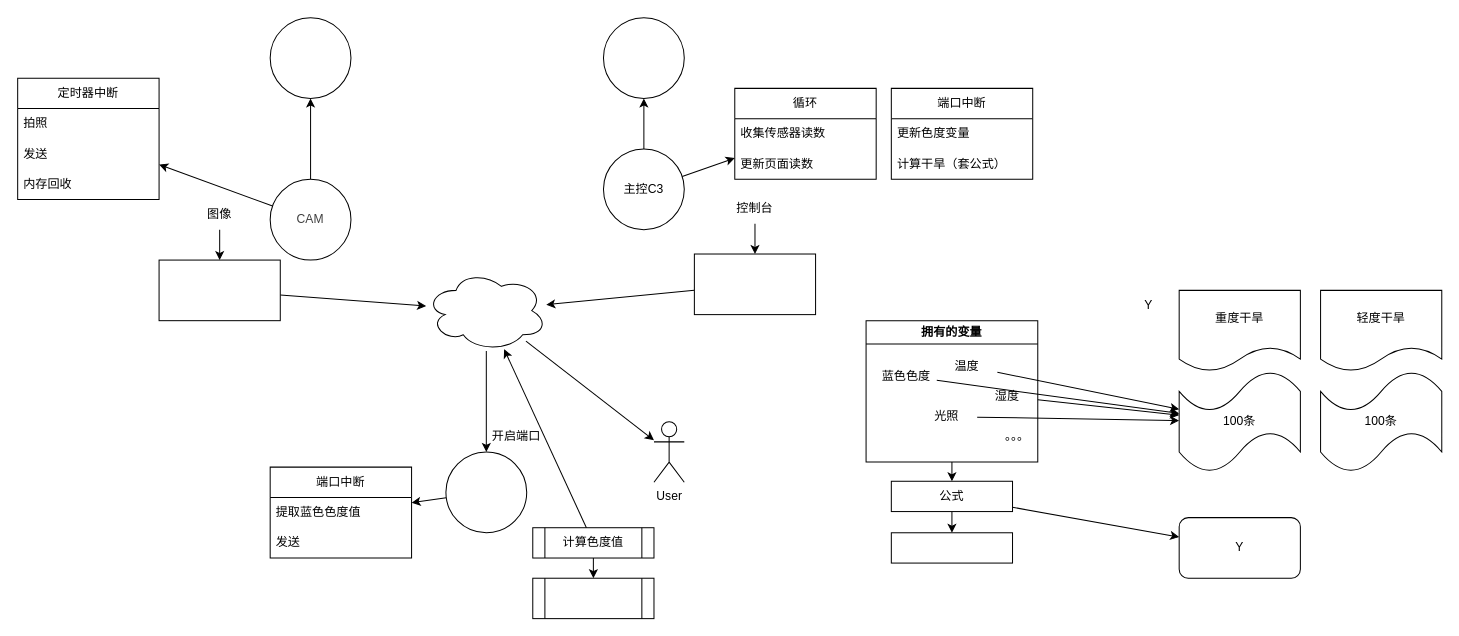
Image size: 1459x636. Some labels were removed from this diagram. Here are the shapes that lost their labels. From the top down, the centre of each, then its label:
the point at 310,57: 摄像头
the point at 643,57: 传感器*n
the point at 219,290: jpeg字节流
the point at 754,284: 传感器读数 *页面结构 运行状态 干旱相关数据
the point at 486,310: WIFI
the point at 486,492: 计算PC
the point at 951,547: 干旱程度
the point at 593,598: 边缘检测 特征识别
